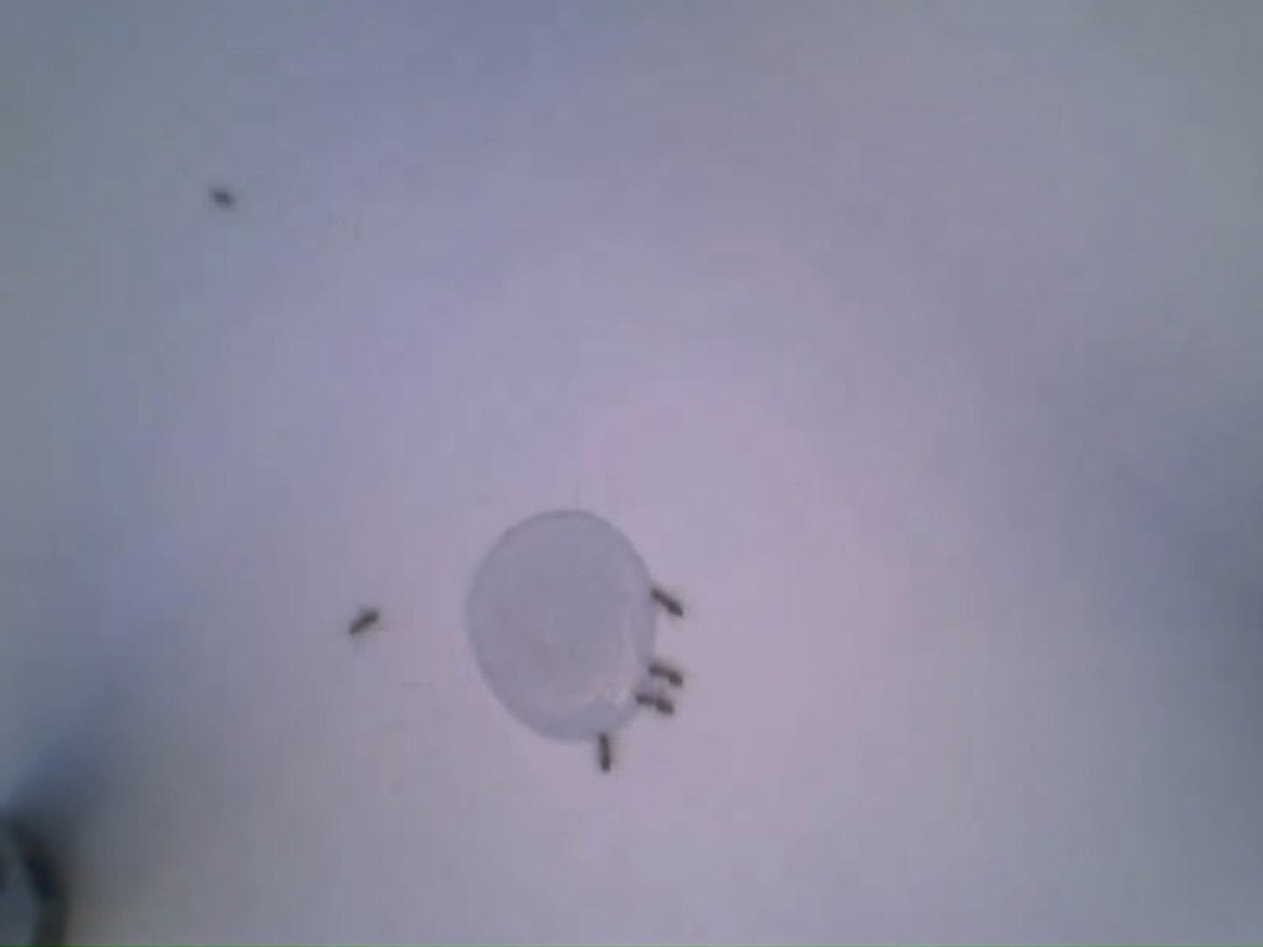Ant: (654, 586, 687, 617), (651, 659, 689, 685), (641, 689, 678, 714), (351, 607, 382, 635), (599, 731, 616, 771), (213, 185, 237, 206)
